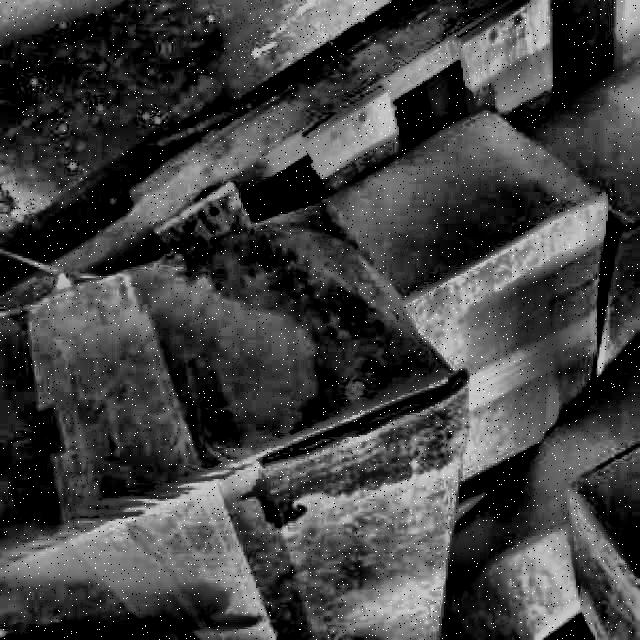box: (0, 176, 463, 640)
hole: (233, 146, 338, 234)
wet: (213, 163, 467, 535)
